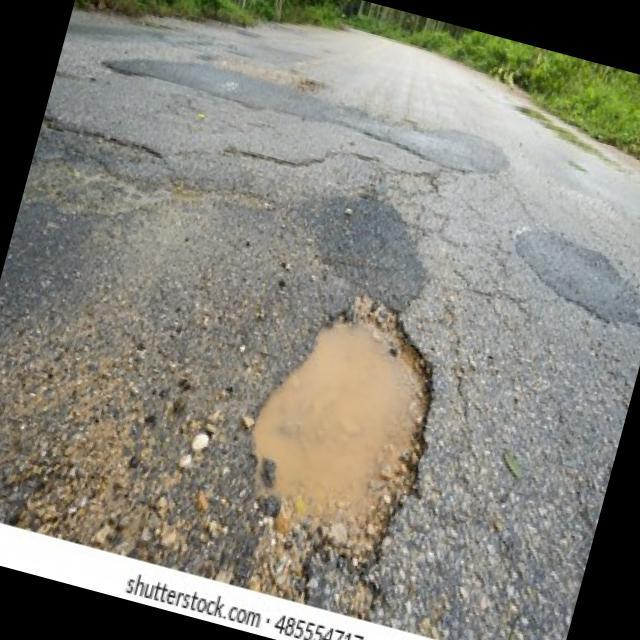Pothole: (214, 275, 466, 592)
